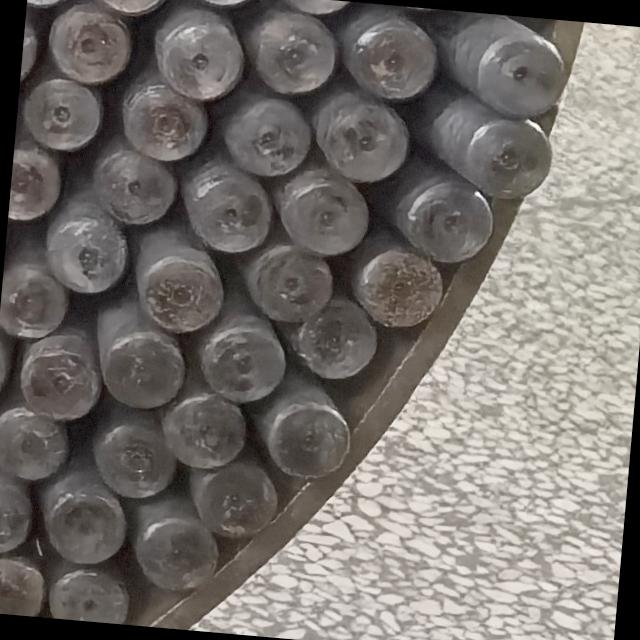tool: (272, 167, 373, 260), (36, 205, 131, 298), (342, 10, 438, 102), (464, 109, 555, 204), (152, 7, 244, 99), (404, 173, 495, 266), (289, 294, 382, 384), (316, 95, 412, 182), (218, 93, 312, 180), (475, 30, 569, 116), (193, 319, 287, 404), (244, 240, 334, 326), (182, 169, 272, 255), (154, 386, 248, 468), (190, 456, 282, 539), (128, 512, 221, 594), (131, 254, 228, 332), (251, 8, 338, 94), (89, 417, 180, 498), (45, 0, 133, 83), (42, 484, 128, 568), (354, 247, 442, 329), (101, 327, 189, 409), (120, 82, 208, 162), (264, 400, 350, 478), (17, 342, 103, 420), (20, 75, 104, 153), (95, 149, 176, 226), (0, 258, 70, 341), (0, 402, 69, 483), (50, 567, 130, 624), (8, 140, 62, 224), (0, 554, 48, 616), (0, 469, 33, 559), (19, 0, 45, 94), (88, 0, 171, 15), (26, 0, 84, 10)
